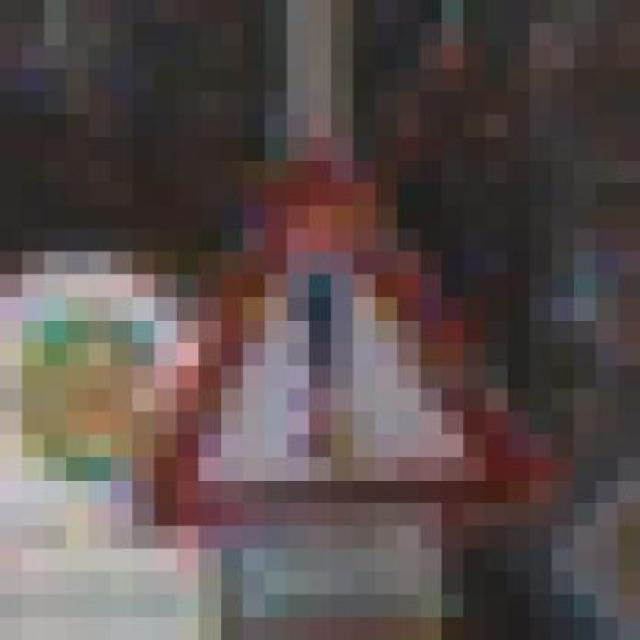Attention Please-: (66, 114, 552, 549)
